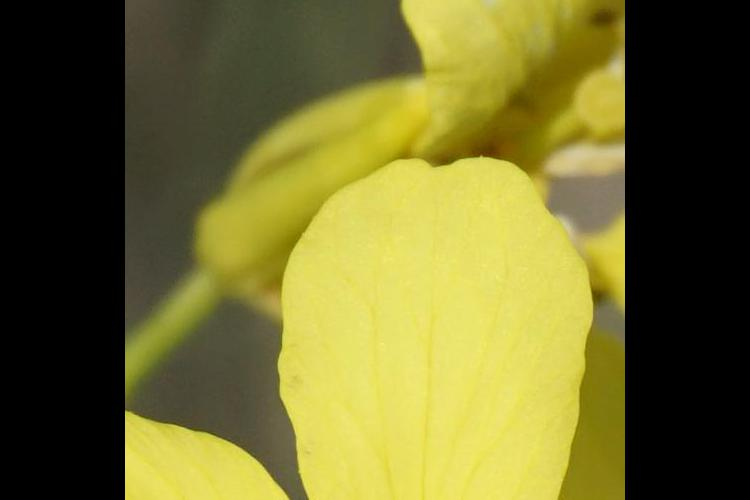yellow: (202, 207, 601, 500), (220, 1, 602, 294)
